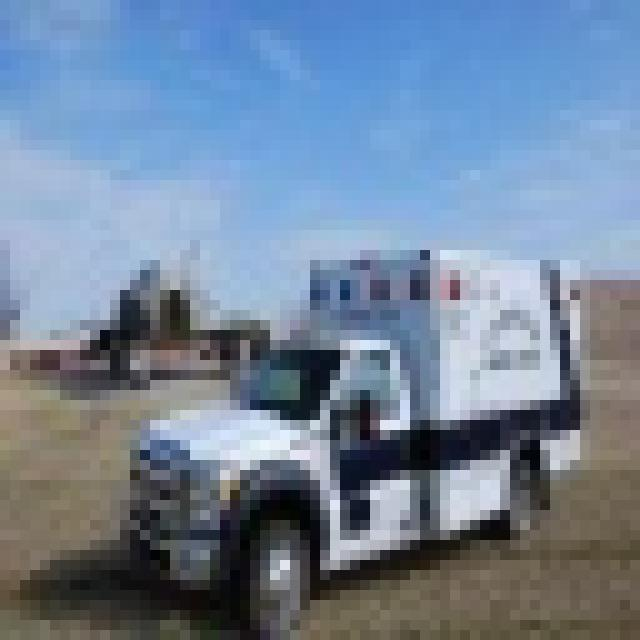Ambulance: (120, 240, 580, 630)
